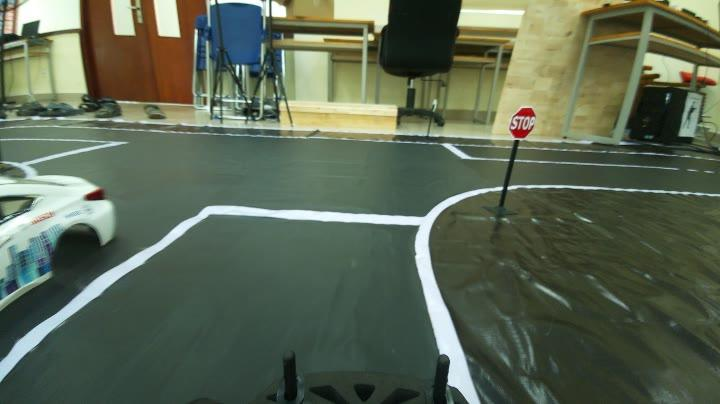stop: (503, 109, 540, 144)
